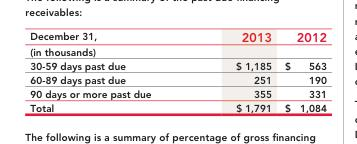table: (29, 28, 325, 113)
table column: (29, 28, 192, 113), (192, 28, 277, 113), (277, 28, 325, 113)
table column header: (29, 28, 325, 44)
table projected row header: (29, 44, 325, 58)
table row: (29, 28, 325, 44), (29, 44, 325, 58), (29, 58, 325, 72), (29, 72, 325, 86), (29, 86, 325, 100), (29, 100, 325, 113)
